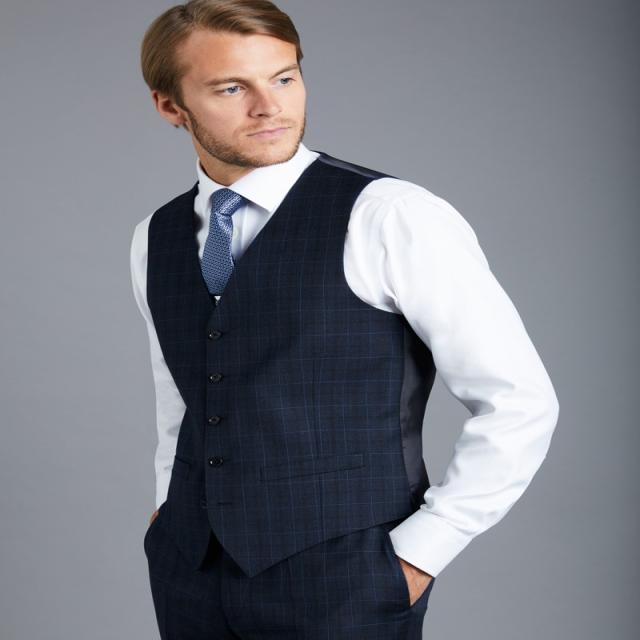mobile_phonerotation: (127, 0, 560, 638)
